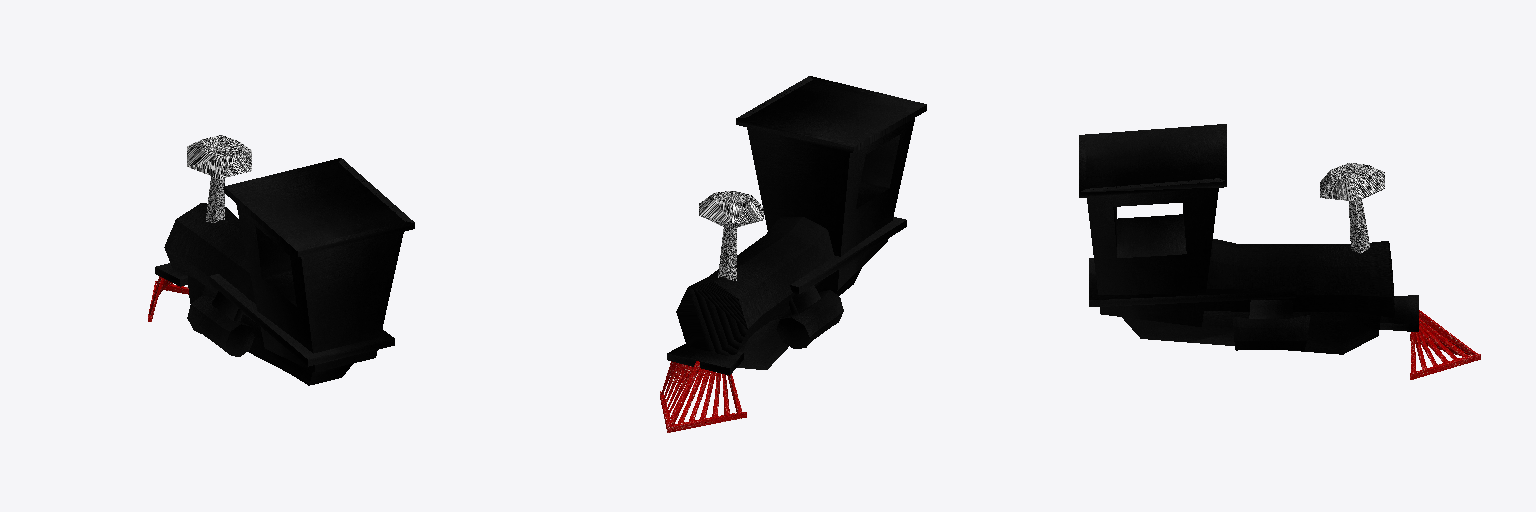
3 renders of one model, left to right at view 1: azimuth 30°, elevation 25°; view 2: azimuth 150°, elevation 25°; view 3: azimuth 270°, elevation 25°, orthographic.
Parts seen in each view (by area): view 1: Train, Salida_vapor; view 2: Train, Indice, Salida_vapor; view 3: Train, Salida_vapor, Indice.
Part boxes in pixels (x1,y1,x2,y2): Train: (155,158,414,385); Salida_vapor: (187,135,251,222); Train: (667,76,926,375); Indice: (660,361,746,432); Salida_vapor: (699,191,763,280); Train: (1079,124,1418,354); Salida_vapor: (1320,163,1384,253); Indice: (1410,310,1480,379).
Bounding box in the file's own units: 6.1 × 10.25 × 18.06.
Materials: 3 (3 with a texture image).